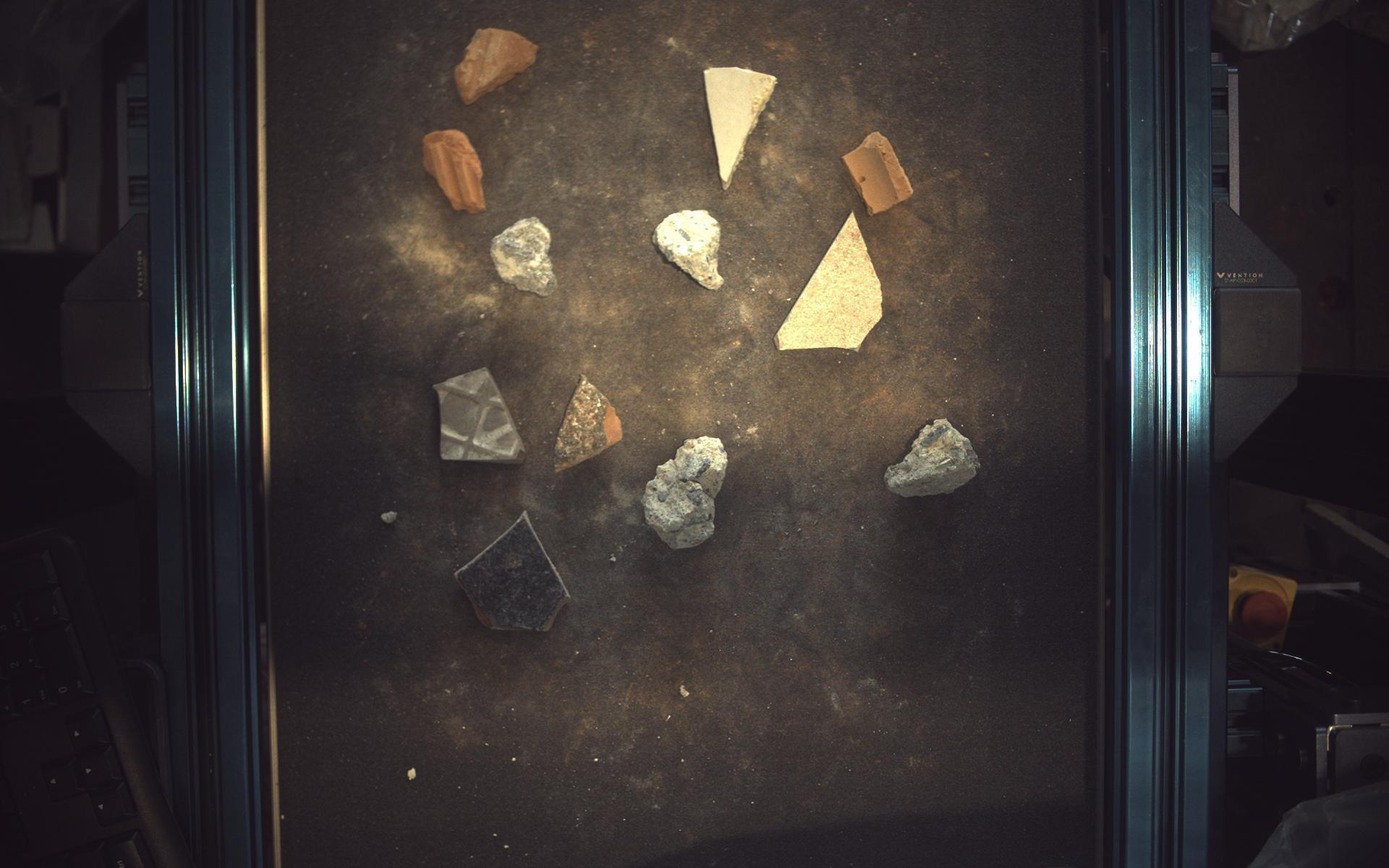brick: (555, 375, 623, 473), (454, 27, 538, 103), (844, 131, 915, 214), (422, 128, 485, 213)
concrete: (642, 436, 729, 550), (886, 419, 982, 497), (654, 209, 725, 289), (491, 216, 557, 296)
tile: (778, 213, 883, 350), (455, 511, 570, 632), (433, 367, 525, 464), (705, 66, 778, 188)
